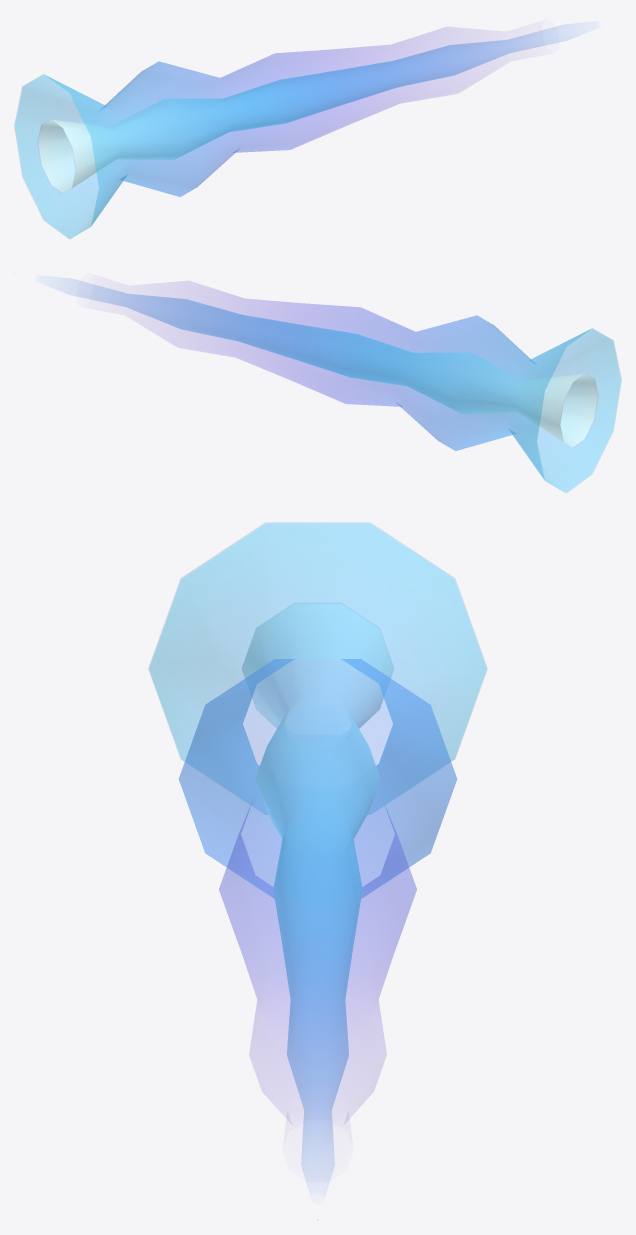
File: PlasmaJet_MML_Lite.glb
The picture shows the model from 3 angles, top to bottom: view 1: azimuth 30°, elevation 25°; view 2: azimuth 150°, elevation 25°; view 3: azimuth 270°, elevation 25°; orthographic projection. The views are drawn at different scales.
Visible parts, largest first — view 1: PlasmaJetLite; view 2: PlasmaJetLite; view 3: PlasmaJetLite.
Boxes of the visible parts, bbox=[...] form: PlasmaJetLite: bbox=[14, 25, 567, 238]; PlasmaJetLite: bbox=[68, 279, 621, 492]; PlasmaJetLite: bbox=[148, 522, 487, 1220].
Bounding box in the file's own units: 1 × 0.2475 × 0.2602.
Materials: 2 (2 with a texture image).
